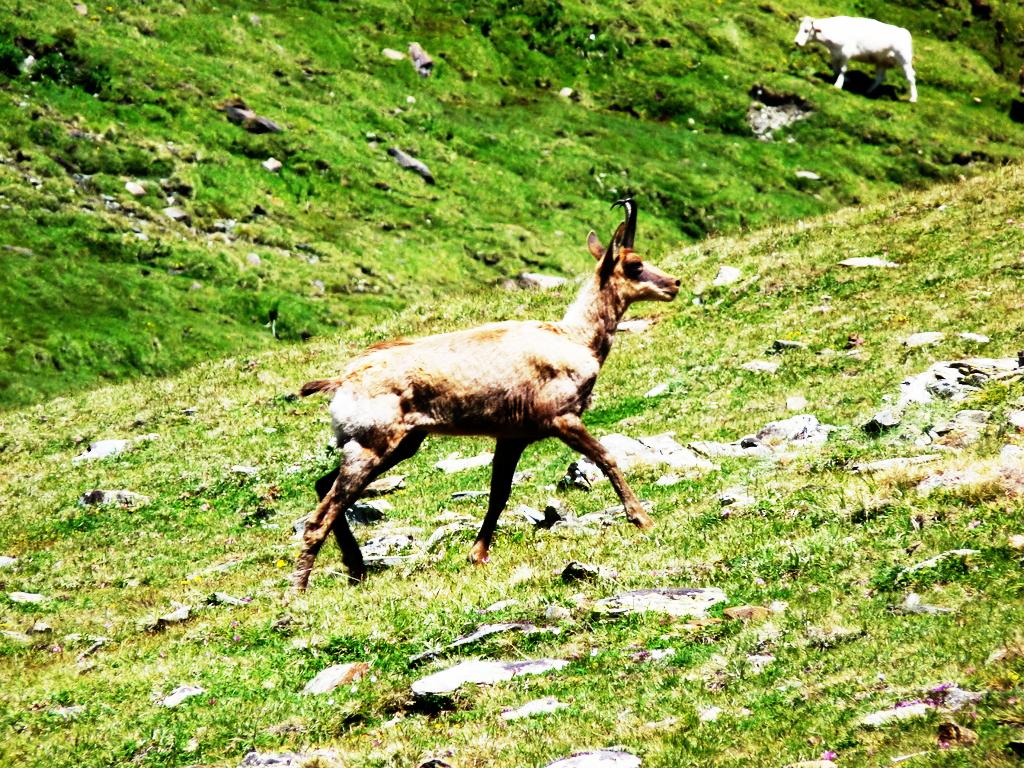Sheep: (283, 195, 683, 600)
